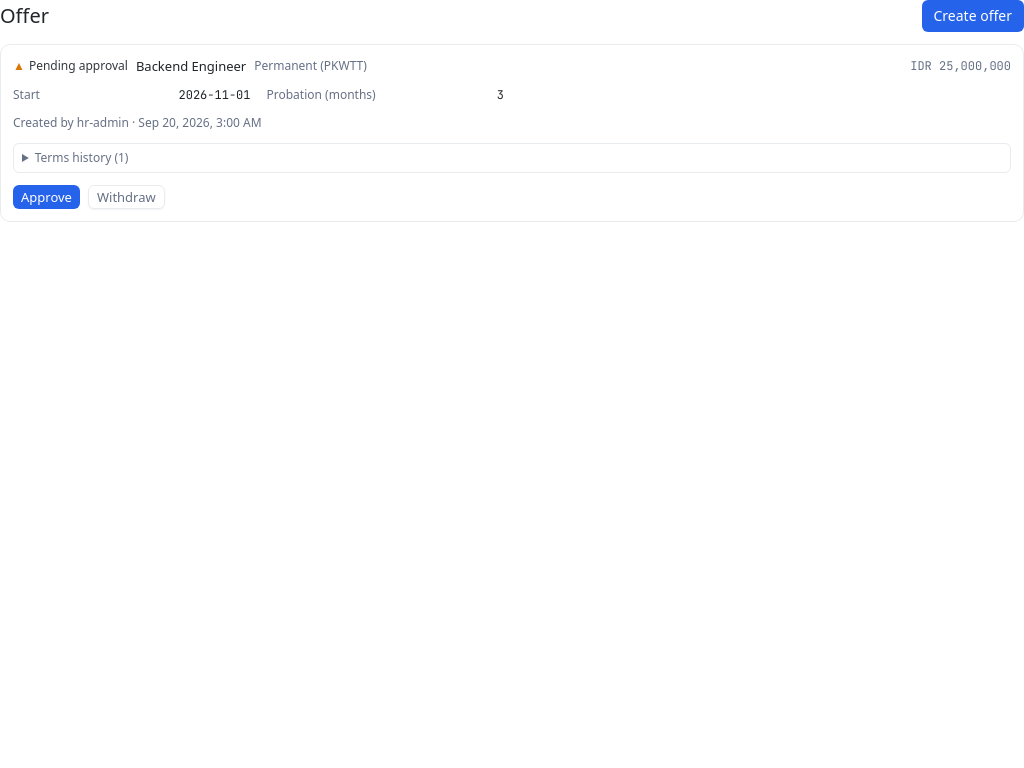
it: OfferPanel › offers approval actions while pending and opens the dialog
Check: the text "Pending approval" is shown, box [29,58,128,74]
Click the button "Approve" at (46, 197), box [13,185,80,209]
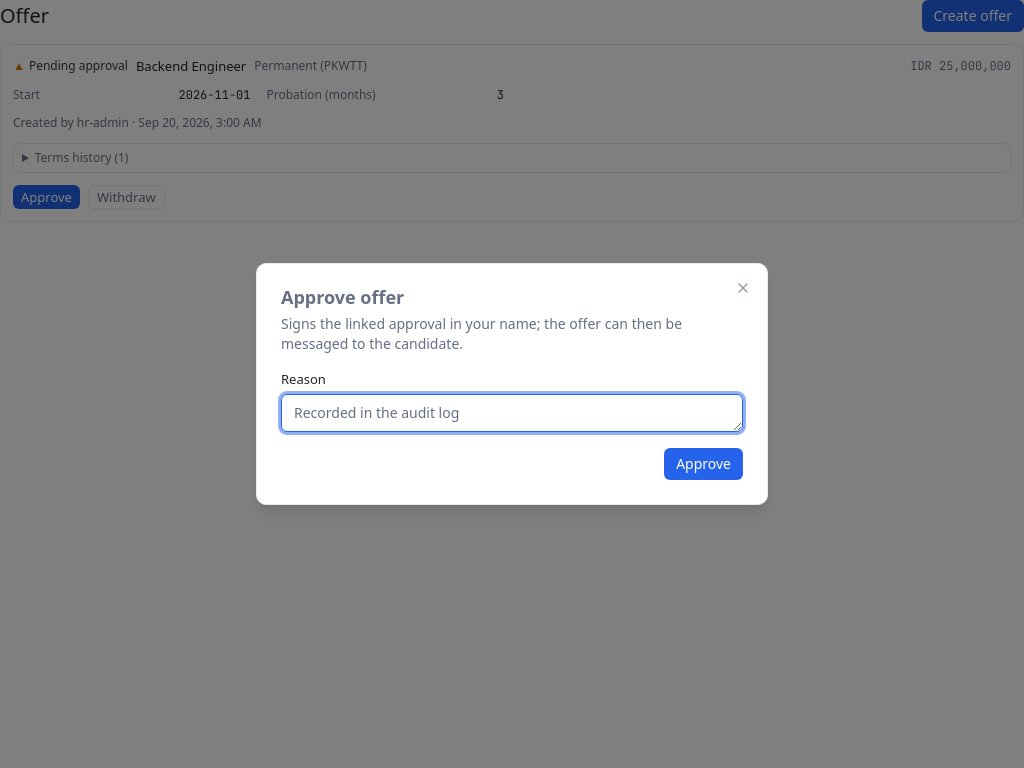
Check: the heading "Approve offer" is shown, box [281,285,404,309]
